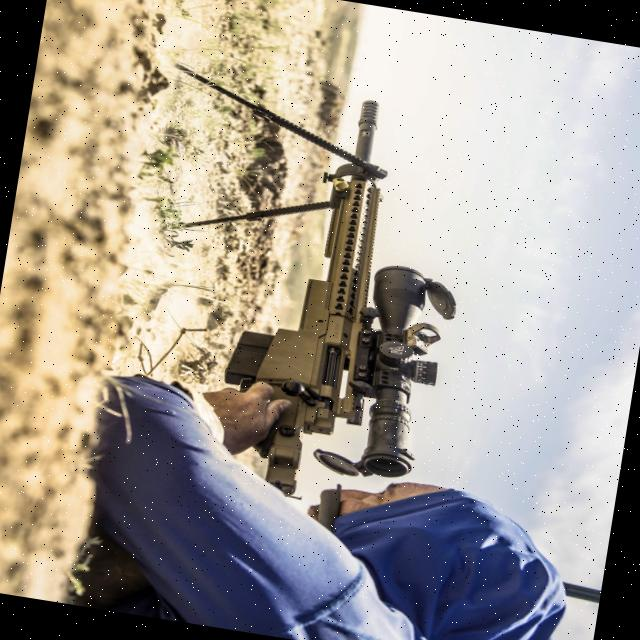Sniper: (127, 56, 517, 534)
